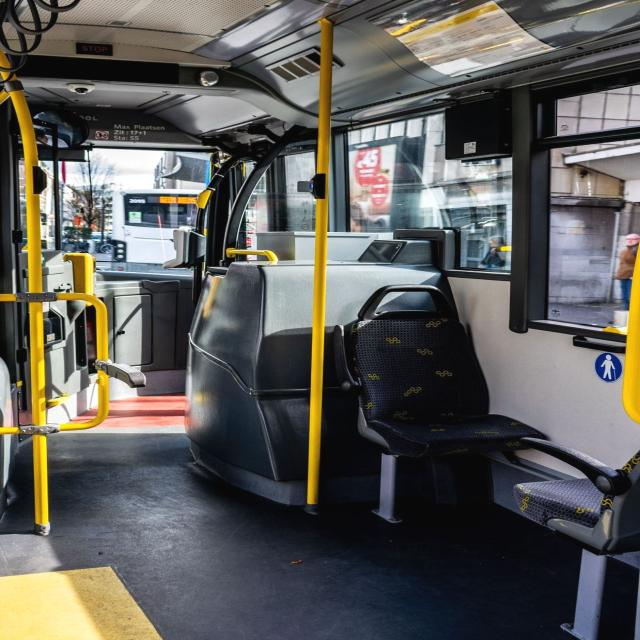asiento-libre: (338, 285, 558, 459), (510, 436, 640, 558)
